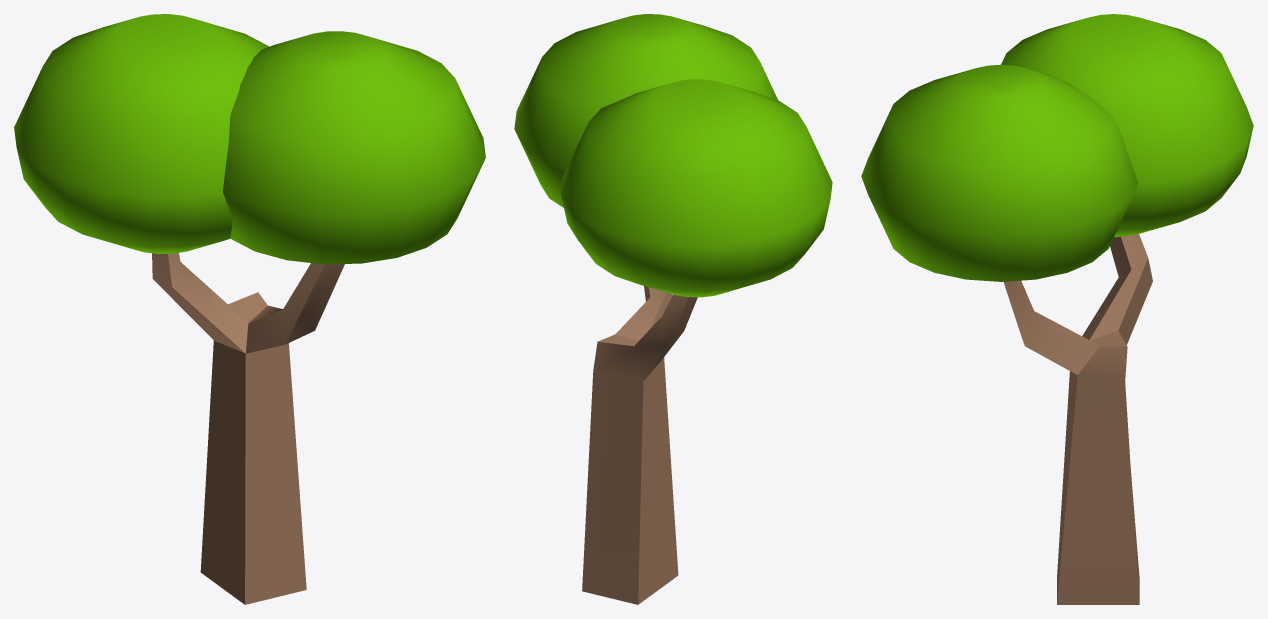
File: Yucca root sapling.fbx
The picture shows the model from 3 angles, left to right: view 1: azimuth 30°, elevation 25°; view 2: azimuth 150°, elevation 25°; view 3: azimuth 270°, elevation 25°; orthographic projection. The views are drawn at different scales.
Parts seen in each view (by area): view 1: pCube5; view 2: pCube5; view 3: pCube5.
Part boxes in pixels (<box>): pCube5: <box>14,14,485,604</box>; pCube5: <box>514,14,832,604</box>; pCube5: <box>861,14,1253,604</box>.
Size of the model in its own units: 1.43 by 2.06 by 1.4.
